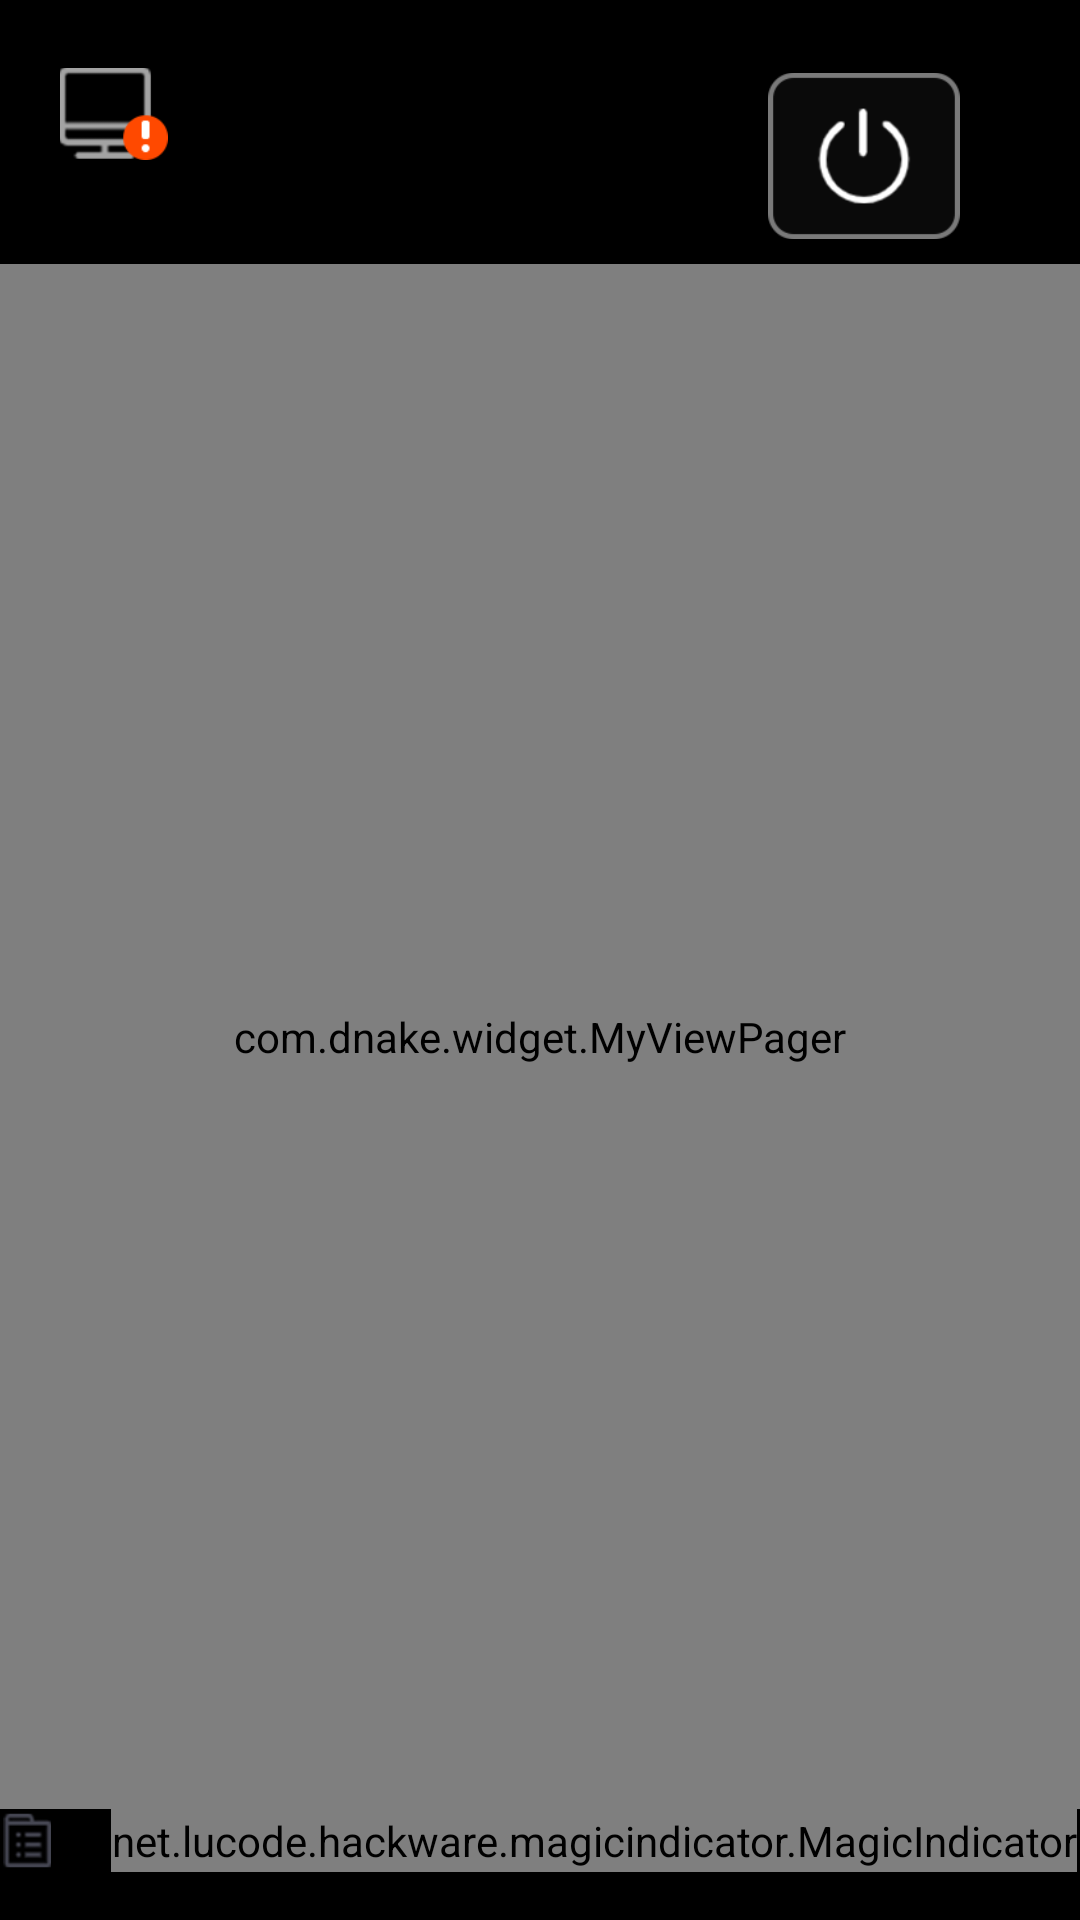

Named icons in this screenshot (1080px x 1920px) and their centers, (x,y):
apps boot: (864,156)
pc off: (114,114)
